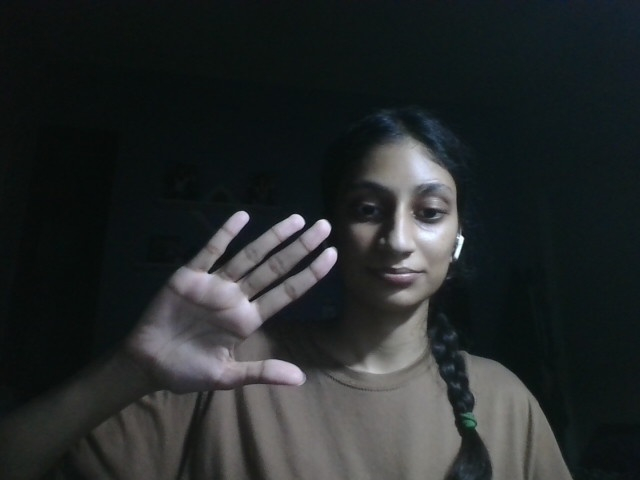hello: (130, 209, 334, 391)
